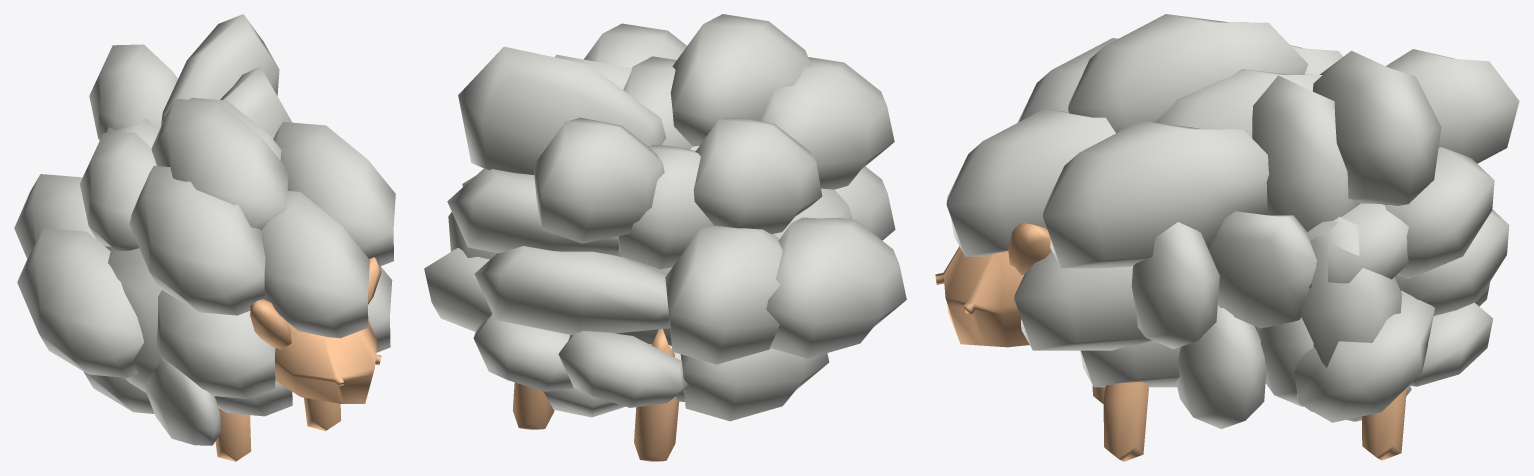
Rendered from hituji.fbx.
The picture shows the model from 3 angles, left to right: view 1: azimuth 30°, elevation 25°; view 2: azimuth 150°, elevation 25°; view 3: azimuth 270°, elevation 25°; orthographic projection. The views are drawn at different scales.
Visible parts, largest first — view 1: 立方体.011, 立方体.004, 立方体.010, 立方体.063, 立方体.013, 立方体.058, 立方体.047, 立方体.007, 立方体.024, 立方体.022, 立方体.033, 立方体.009 (+11 smaller); view 2: 立方体.022, 立方体.004, 立方体.029, 立方体.009, 立方体.024, 立方体.063, 立方体.007, 立方体.011, 立方体.027, 立方体.062, 立方体.005, 立方体.006 (+11 smaller); view 3: 立方体.013, 立方体.063, 立方体.022, 立方体.010, 立方体.021, 立方体.030, 立方体.065, 立方体.057, 立方体.012, 立方体.024, 立方体.032, 立方体.027 (+13 smaller).
Boxes of the visible parts, x1,y1,x2,y2 form: 立方体.011: (129,165,265,315); 立方体.004: (17,228,143,377); 立方体.010: (261,191,369,338); 立方体.063: (151,98,288,230); 立方体.013: (273,122,395,266); 立方体.058: (156,290,275,398); 立方体.047: (275,321,381,403); 立方体.007: (80,132,156,250); 立方体.024: (89,44,177,140); 立方体.022: (161,14,279,125); 立方体.033: (143,360,221,445); 立方体.009: (14,174,96,258); 立方体.022: (458,46,665,174); 立方体.004: (766,217,906,358); 立方体.029: (474,246,669,335); 立方体.009: (665,225,782,364); 立方体.024: (533,117,664,243); 立方体.063: (670,14,811,146); 立方体.007: (693,117,822,234); 立方体.011: (760,57,894,189); 立方体.027: (447,168,621,256); 立方体.062: (558,331,688,407); 立方体.005: (680,348,829,421); 立方体.006: (618,145,713,269); 立方体.013: (1043,120,1268,268); 立方体.063: (1068,14,1308,133); 立方体.022: (1312,50,1441,205); 立方体.010: (946,109,1115,256); 立方体.021: (1252,75,1360,231); 立方体.030: (1294,290,1434,422); 立方体.065: (1208,211,1317,328); 立方体.057: (1014,251,1151,350); 立方体.012: (1131,222,1219,349); 立方体.024: (1386,49,1519,163); 立方体.032: (1176,305,1266,429); 立方体.027: (1384,147,1494,279).
Size of the model in its own units: 231 by 219 by 279.
